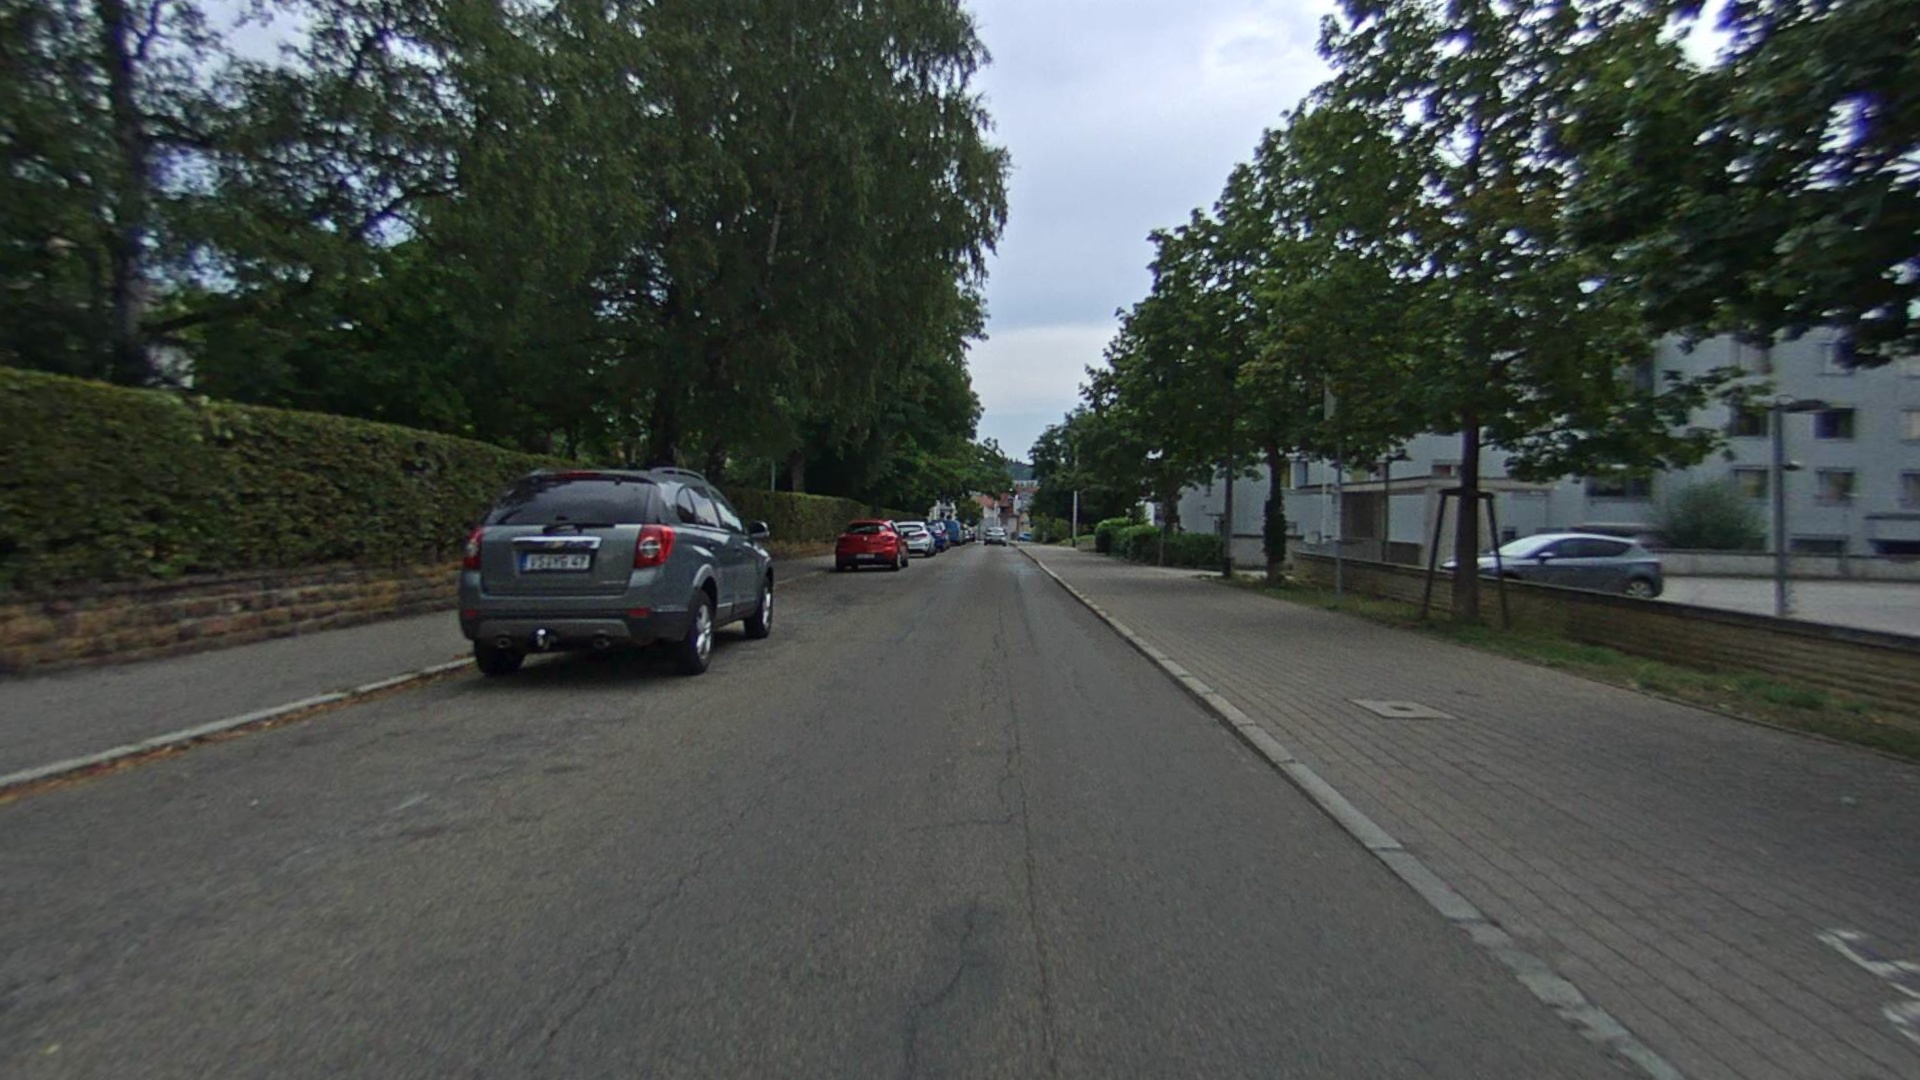car: (454, 465, 777, 682)
